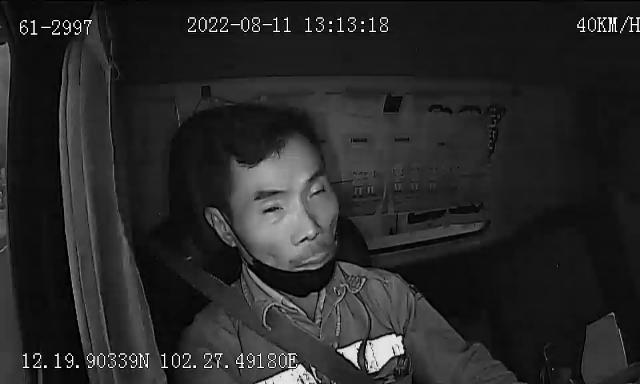SafeDriving: (418, 96, 476, 124), (418, 95, 461, 123), (300, 176, 332, 210), (256, 192, 290, 220)
Seatbelt: (192, 276, 386, 384)
